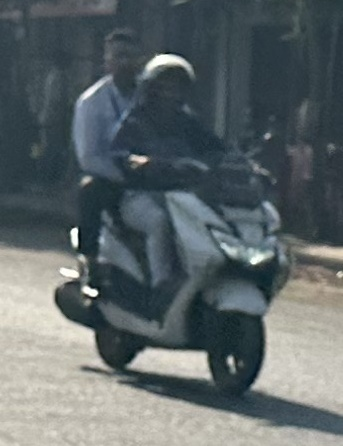BikeWithRider: (42, 19, 299, 403)
Helmet: (139, 47, 204, 119)
NoHelmet: (91, 18, 155, 91)
